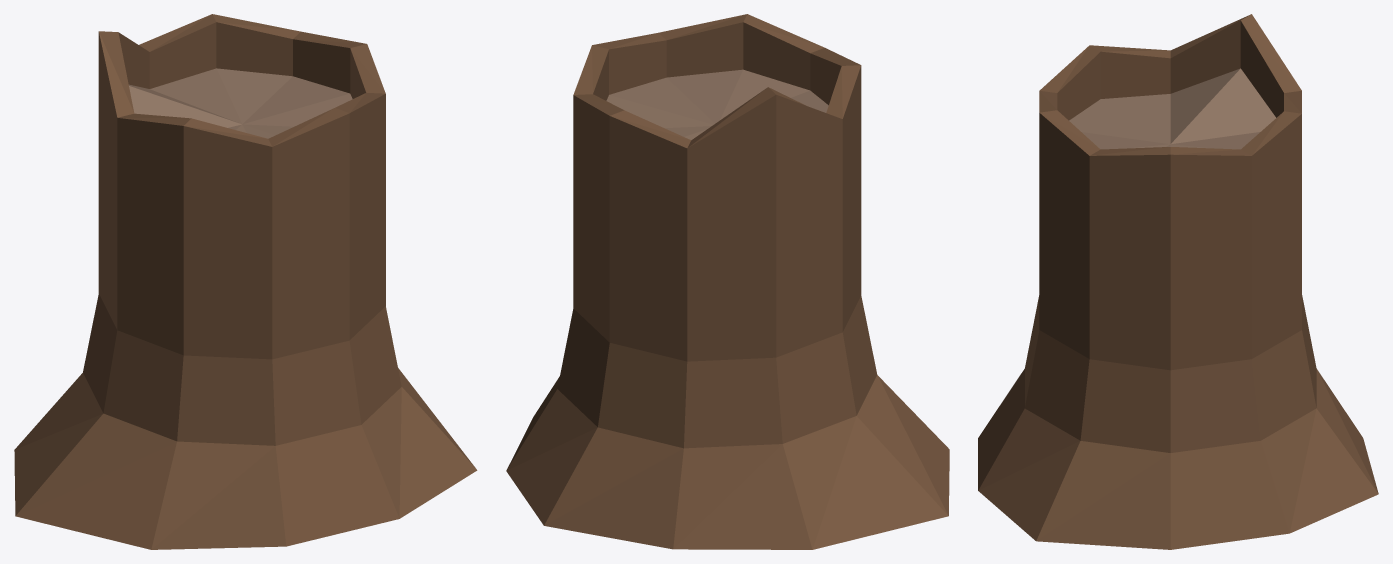
The model's file is Tree-trunk-5.fbx.
3 renders of one model, left to right at view 1: azimuth 30°, elevation 25°; view 2: azimuth 150°, elevation 25°; view 3: azimuth 270°, elevation 25°, orthographic. The views are drawn at different scales.
Parts seen in each view (by area): view 1: Boomstam_5; view 2: Boomstam_5; view 3: Boomstam_5.
Part boxes in pixels (left/top/right/bottom): Boomstam_5: left=14, top=14, right=477, bottom=549; Boomstam_5: left=506, top=14, right=949, bottom=549; Boomstam_5: left=978, top=14, right=1378, bottom=549.
Bounding box in the file's own units: 256 × 251 × 226.
Materials: 1 (1 with a texture image).
